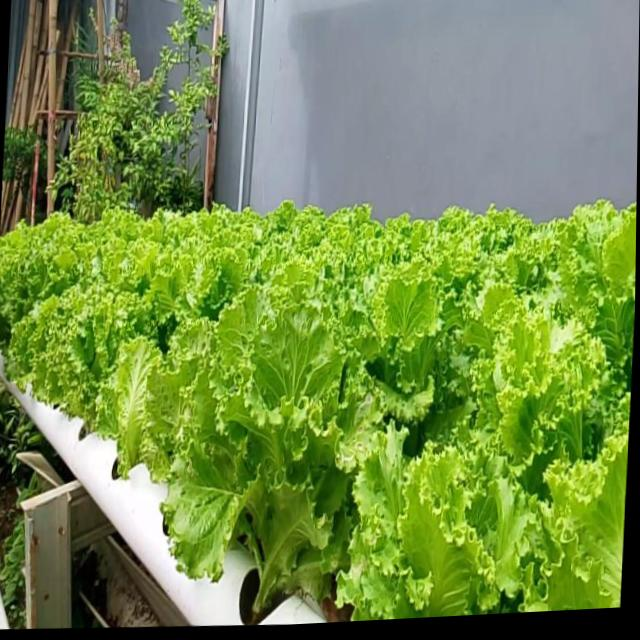Mature: (148, 292, 367, 624), (28, 279, 137, 443)
